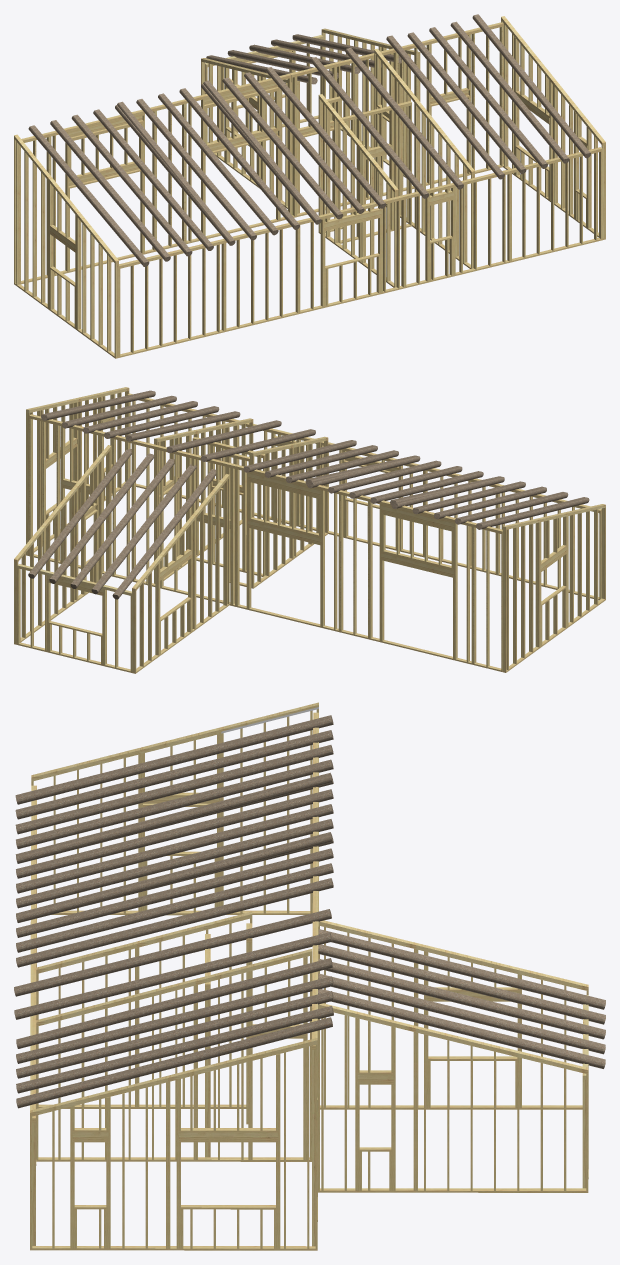
The picture shows the model from 3 angles, top to bottom: view 1: azimuth 30°, elevation 25°; view 2: azimuth 150°, elevation 25°; view 3: azimuth 270°, elevation 25°; orthographic projection. The views are drawn at different scales.
Parts seen in each view (by area): view 1: Geom3D_ (×22), Geom3D (×3), Geom3D_Stud_38x100x3888,53 mm@15.64, Geom3D_Stud_38x100x3774,86 mm@15.64, Geom3D_Stud_38x100x3661,18 mm@15.64, Geom3D_Stud_38x100x3547,50 mm@15.64, Geom3D_Stud_38x100x2979,11 mm@15.64, Geom3D_Stud_38x100x2979,11 mm@15.64#1, Geom3D_Stud_38x100x2865,43 mm@15.64, Geom3D_Stud_38x100x2751,75 mm@15.64, Geom3D_Stud_38x100x3252,45 mm@16.0, Geom3D_Stud_38x100x3878,53 mm@15.64 (+2 smaller); view 2: Geom3D_ (×22), Geom3D_Stud_38x100x3772,08 mm (×7), Geom3D (×3), Geom3D_Stud_38x100x3572,59 mm@0.0 (×3), Geom3D_Stud_38x100x3572,59 mm@0.0#1 (×3), Geom3D_Header_Outer_38x150x2126,00 mm (×2), Geom3D_Header_Outer_38x150x2126,00 mm#1 (×2), Geom3D_Plate_Top_38x100x2999,99 mm@15.0 (×2), Geom3D_Stud_38x100x2386,54 mm@15.0 (×2), Geom3D_Stud_38x100x3919,05 mm@15.64, Geom3D_Stud_38x100x3661,18 mm@15.64, Geom3D_Stud_38x100x3547,50 mm@15.64 (+26 smaller); view 3: Geom3D_ (×20), Geom3D (×3), Geom3D_Plate_Top_38x100x2999,99 mm@15.0 (×2), Geom3D_Plate_Bottom_38x100x2999,99 mm (×2), Geom3D_Header_Outer_38x150x1676,00 mm, Geom3D_Plate_Top_38x100x2773,00 mm@16.0, Geom3D_Stud_38x100x3772,08 mm, Geom3D_Plate_Top_38x100x2600,00 mm@15.64.
Part boxes in pixels (x1=…): Geom3D_ (×22): x1=28, y1=21, x2=569, y2=266; Geom3D (×3): x1=117, y1=14, x2=590, y2=245; Geom3D_Stud_38x100x3888,53 mm@15.64: x1=16, y1=141, x2=20, y2=284; Geom3D_Stud_38x100x3774,86 mm@15.64: x1=24, y1=151, x2=28, y2=290; Geom3D_Stud_38x100x3661,18 mm@15.64: x1=32, y1=162, x2=36, y2=296; Geom3D_Stud_38x100x3547,50 mm@15.64: x1=41, y1=172, x2=45, y2=302; Geom3D_Stud_38x100x2979,11 mm@15.64: x1=77, y1=217, x2=81, y2=329; Geom3D_Stud_38x100x2979,11 mm@15.64#1: x1=82, y1=223, x2=86, y2=333; Geom3D_Stud_38x100x2865,43 mm@15.64: x1=90, y1=233, x2=94, y2=339; Geom3D_Stud_38x100x2751,75 mm@15.64: x1=98, y1=244, x2=102, y2=345; Geom3D_Stud_38x100x3252,45 mm@16.0: x1=421, y1=112, x2=425, y2=232; Geom3D_Stud_38x100x3878,53 mm@15.64: x1=504, y1=24, x2=508, y2=166; Geom3D_ (×22): x1=28, y1=395, x2=589, y2=599; Geom3D_Stud_38x100x3772,08 mm (×7): x1=29, y1=418, x2=489, y2=666; Geom3D (×3): x1=41, y1=390, x2=504, y2=505; Geom3D_Stud_38x100x3572,59 mm@0.0 (×3): x1=236, y1=469, x2=337, y2=629; Geom3D_Stud_38x100x3572,59 mm@0.0#1 (×3): x1=369, y1=502, x2=469, y2=662; Geom3D_Header_Outer_38x150x2126,00 mm (×2): x1=248, y1=473, x2=321, y2=543; Geom3D_Header_Outer_38x150x2126,00 mm#1 (×2): x1=381, y1=506, x2=454, y2=576; Geom3D_Plate_Top_38x100x2999,99 mm@15.0 (×2): x1=14, y1=486, x2=195, y2=590; Geom3D_Stud_38x100x2386,54 mm@15.0 (×2): x1=21, y1=553, x2=143, y2=666; Geom3D_Stud_38x100x3919,05 mm@15.64: x1=502, y1=529, x2=506, y2=671; Geom3D_Stud_38x100x3661,18 mm@15.64: x1=521, y1=525, x2=525, y2=658; Geom3D_Stud_38x100x3547,50 mm@15.64: x1=529, y1=524, x2=533, y2=652; Geom3D_ (×20): x1=14, y1=715, x2=605, y2=1093; Geom3D (×3): x1=16, y1=772, x2=332, y2=1108; Geom3D_Plate_Top_38x100x2999,99 mm@15.0 (×2): x1=416, y1=943, x2=588, y2=1072; Geom3D_Plate_Bottom_38x100x2999,99 mm (×2): x1=416, y1=1105, x2=588, y2=1192; Geom3D_Header_Outer_38x150x1676,00 mm: x1=179, y1=1132, x2=278, y2=1140; Geom3D_Plate_Top_38x100x2773,00 mm@16.0: x1=36, y1=979, x2=195, y2=1024; Geom3D_Stud_38x100x3772,08 mm: x1=312, y1=1049, x2=315, y2=1246; Geom3D_Plate_Top_38x100x2600,00 mm@15.64: x1=168, y1=1038, x2=317, y2=1079.
Size of the model in its own units: 13.91 by 4.14 by 10.29.
Materials: 4 (4 with a texture image).
